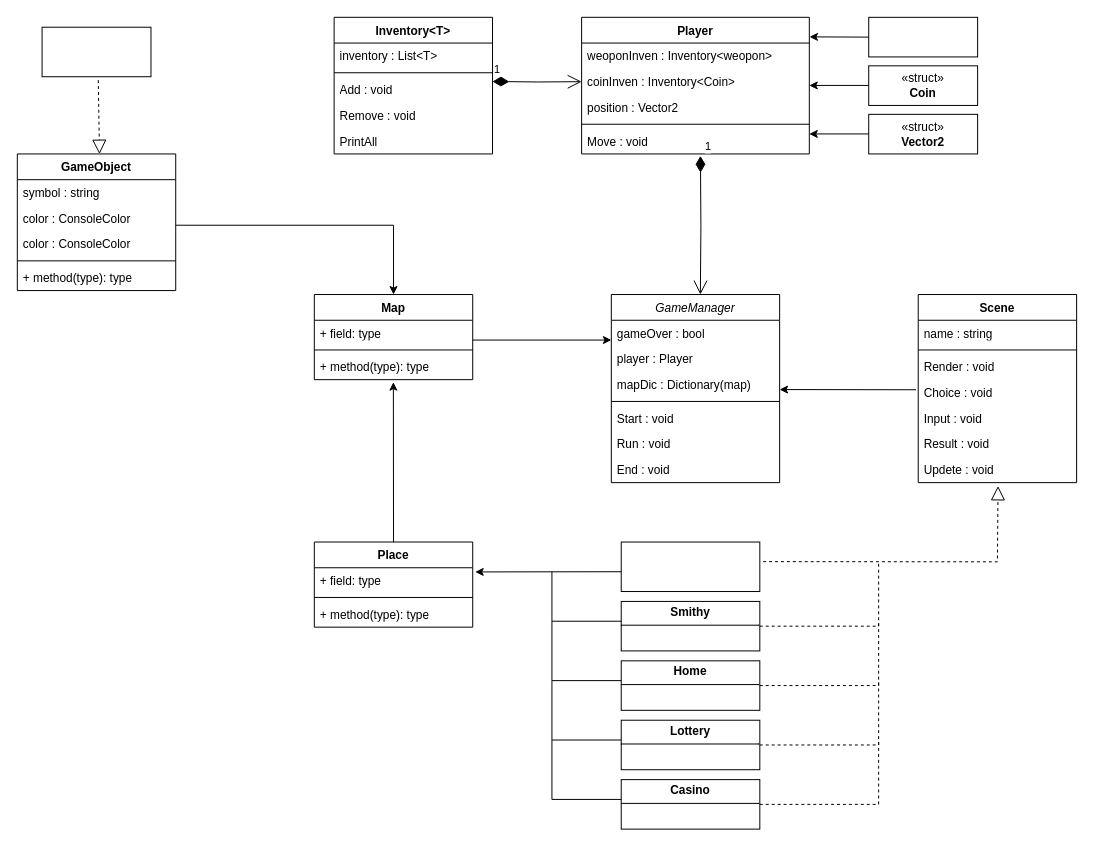
This 1094x846 diagram has some shape labels left out. The shapes that lost their labels are listed below. From the top down, each one's centre as x and y in pixels, then its label:
(x=96, y=51): «interface» IInteractable
(x=923, y=36): «struct» Weopon
(x=690, y=566): Field
